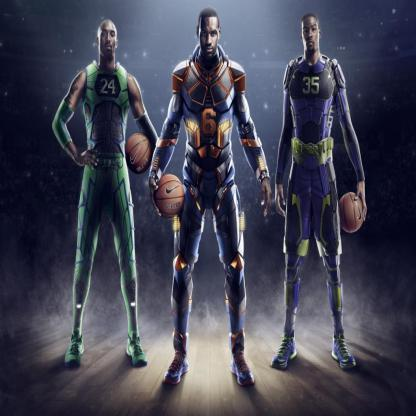face: (201, 16, 218, 60), (101, 22, 117, 61), (303, 20, 319, 54)
